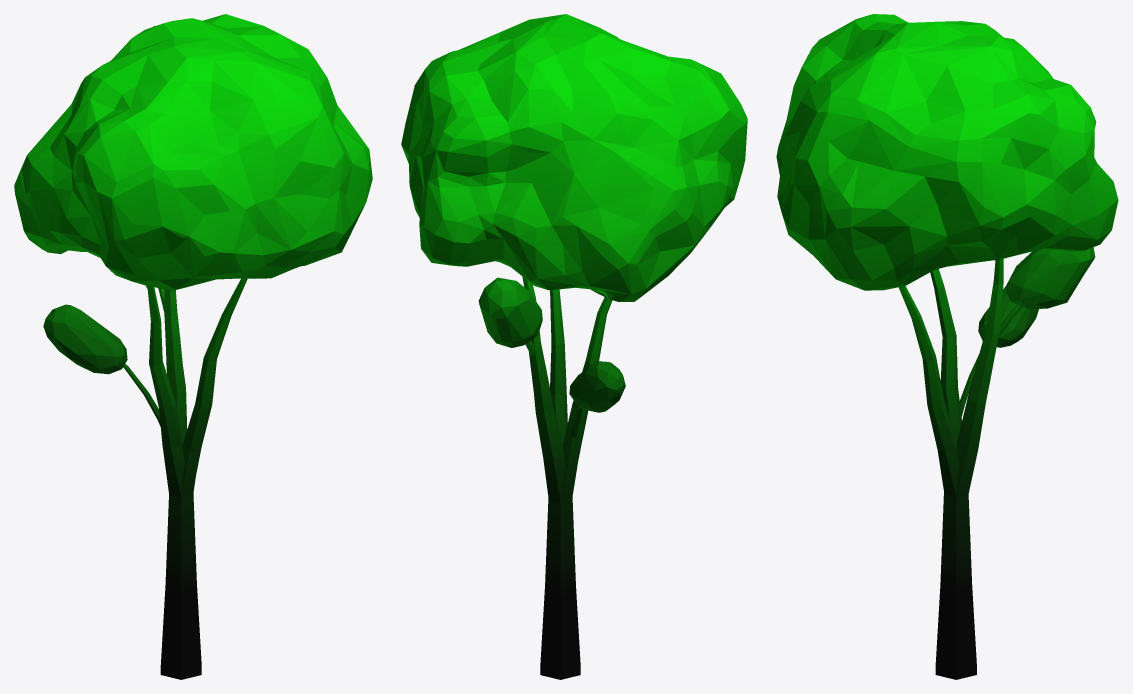
Rendered from SM_Tree_Small_02.fbx.
The picture shows the model from 3 angles, left to right: view 1: azimuth 30°, elevation 25°; view 2: azimuth 150°, elevation 25°; view 3: azimuth 270°, elevation 25°; orthographic projection. The views are drawn at different scales.
Visible parts, largest first — view 1: SM_Tree_Small_02_LOD0; view 2: SM_Tree_Small_02_LOD0; view 3: SM_Tree_Small_02_LOD0.
Boxes of the visible parts, box(x1,y1,x2,y2) form: SM_Tree_Small_02_LOD0: box(14, 14, 372, 679); SM_Tree_Small_02_LOD0: box(401, 14, 747, 679); SM_Tree_Small_02_LOD0: box(776, 14, 1118, 679).
Bounding box in the file's own units: 370 × 781 × 379.
